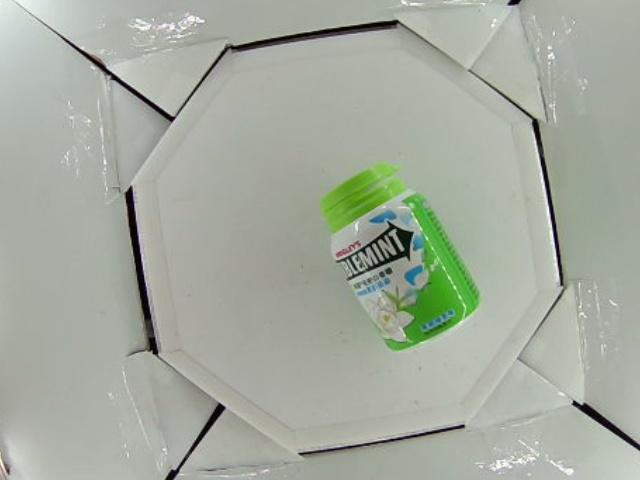Bottle: (320, 161, 480, 354)
